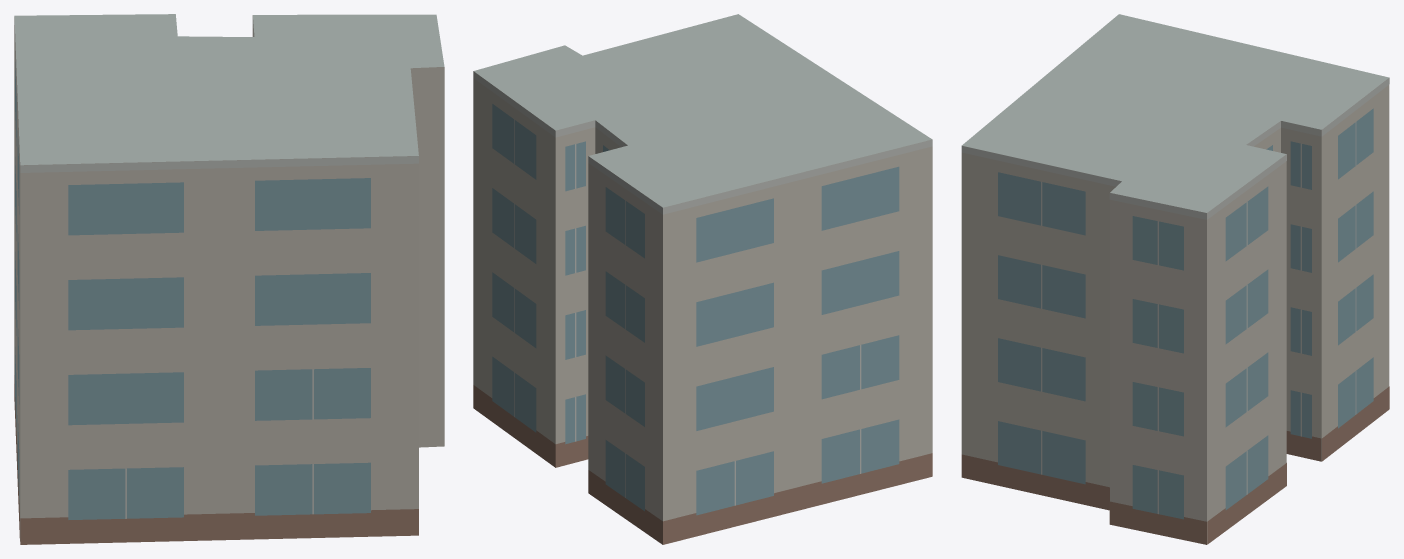
Rendered from survey-upis-32779299.glb.
The picture shows the model from 3 angles, left to right: view 1: azimuth 30°, elevation 25°; view 2: azimuth 150°, elevation 25°; view 3: azimuth 270°, elevation 25°; orthographic projection. The views are drawn at different scales.
Parts seen in each view (by area): view 1: survey-upis-32779299.tmp; view 2: survey-upis-32779299.tmp; view 3: survey-upis-32779299.tmp.
Boxes of the visible parts, left/top/right/bottom form: survey-upis-32779299.tmp: left=14, top=14, right=444, bottom=544; survey-upis-32779299.tmp: left=473, top=14, right=932, bottom=544; survey-upis-32779299.tmp: left=961, top=14, right=1389, bottom=544.
Bounding box in the file's own units: 15.19 × 11.8 × 13.8.
